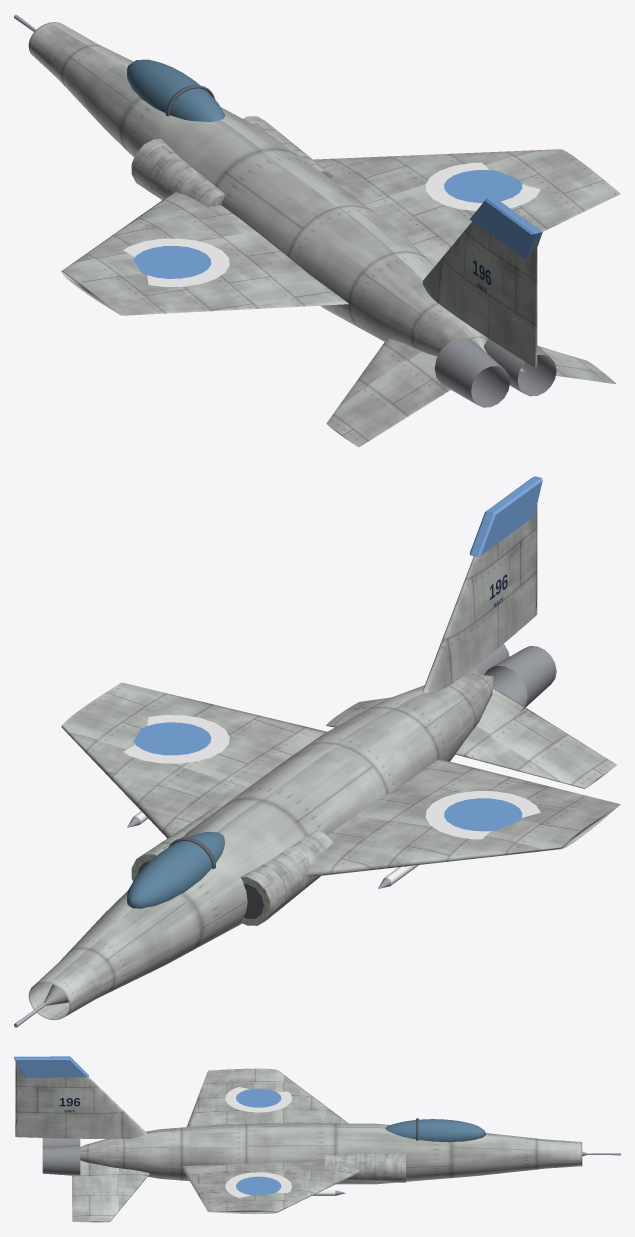
The picture shows the model from 3 angles, top to bottom: view 1: azimuth 30°, elevation 25°; view 2: azimuth 150°, elevation 25°; view 3: azimuth 270°, elevation 25°; orthographic projection. The views are drawn at different scales.
Parts seen in each view (by area): view 1: detail (×5), part (×5); view 2: detail (×4), part (×5); view 3: detail (×4), part (×5).
Boxes of the visible parts, x1,y1,x2,y2 form: detail (×5): (28,22,620,447); part (×5): (123,59,556,407); detail (×4): (28,504,620,1020); part (×5): (123,476,556,908); detail (×4): (15,1061,582,1222); part (×5): (14,1056,485,1197).
Size of the model in its own units: 12.35 by 5.24 by 22.38.
Materials: 14 (3 with a texture image).
